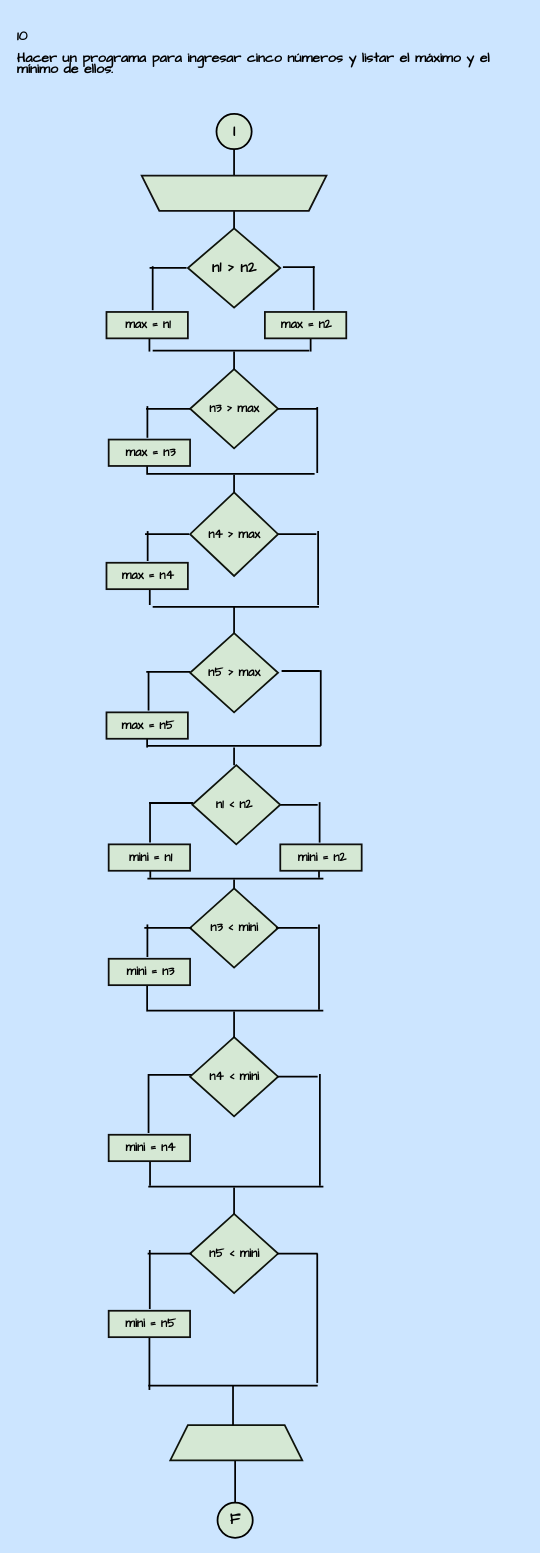
Image size: 540x1553. Some labels were removed from this diagram. Each missing label, with the centre of its shape:
"max, mini" belongs at point 236,1442.
"n1, n2, n3, n4, n5" belongs at point 233,192.
